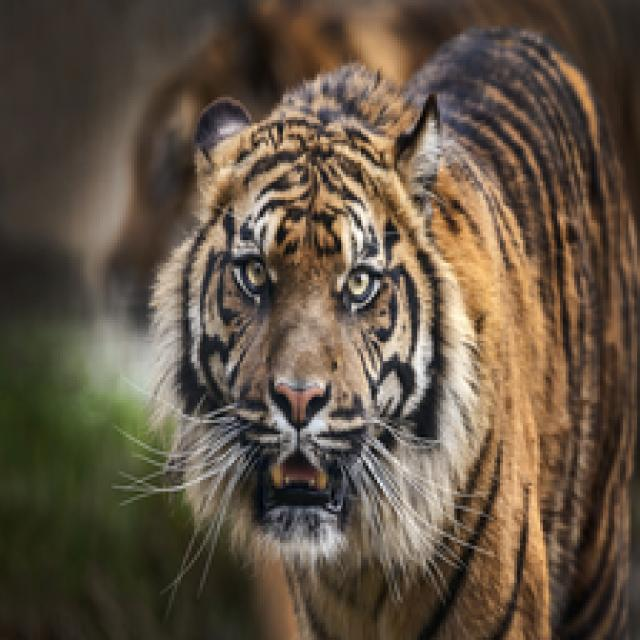tiger: (115, 35, 634, 640)
